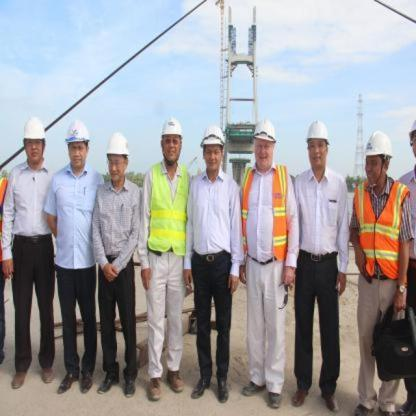bota: (57, 358, 80, 394), (96, 362, 120, 395), (264, 374, 284, 410), (10, 358, 32, 390), (190, 369, 212, 400), (319, 383, 339, 413), (81, 357, 96, 394), (165, 364, 184, 393), (123, 362, 138, 398), (242, 374, 266, 396), (291, 382, 311, 408), (216, 369, 230, 404), (146, 372, 162, 402), (41, 352, 56, 384)
capacete: (365, 130, 391, 185), (199, 123, 225, 171), (106, 131, 129, 181), (66, 118, 89, 167), (253, 119, 276, 168), (306, 119, 328, 168), (160, 116, 182, 164), (24, 116, 45, 164)
oculos: (160, 137, 182, 147)
